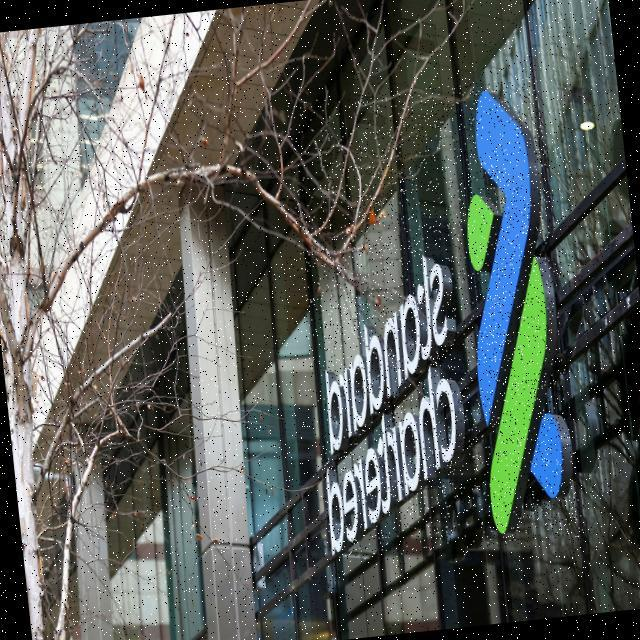Standard Chartered: (283, 76, 585, 563)
